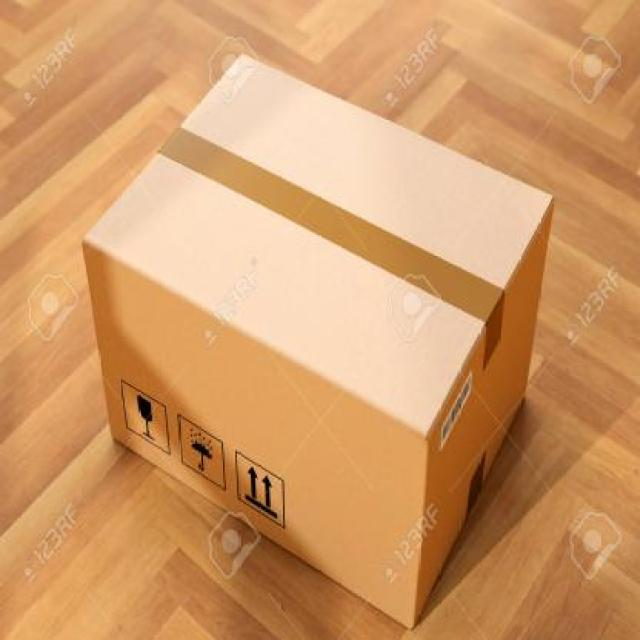box: (71, 45, 571, 640)
